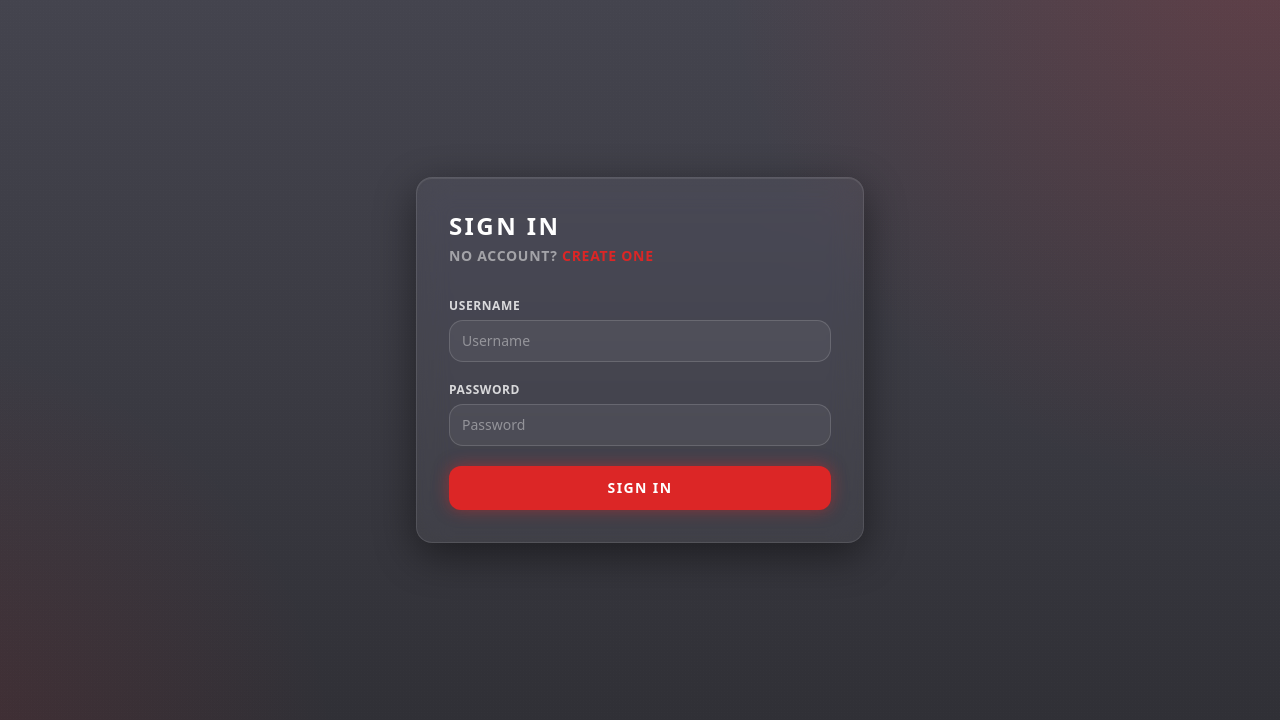
Test: Login page › successful login › shows "Signing in..." text while the request is pending
Type "ash" into the field labelled "Username".
click(640, 341); type("ash")  # box left=449, top=320, right=831, bottom=362
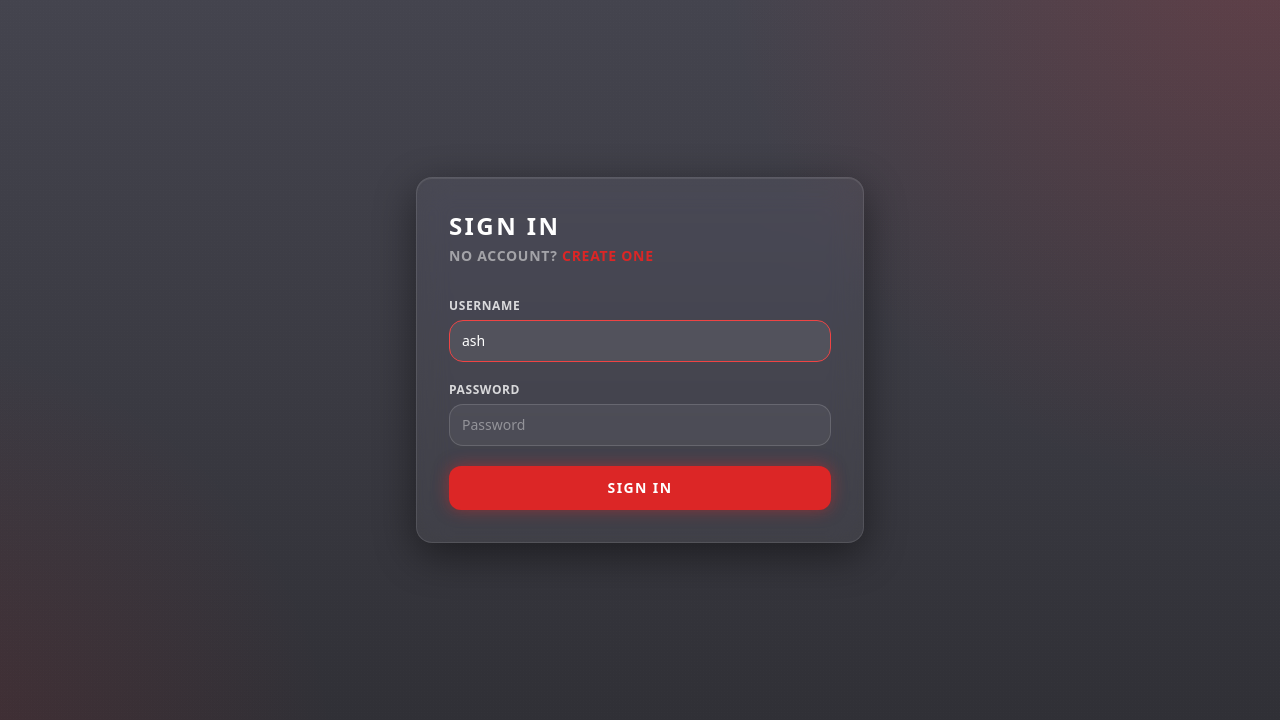
Type "pikachu" into the password field labelled "Password".
click(640, 425); type("pikachu")  # box left=449, top=404, right=831, bottom=446
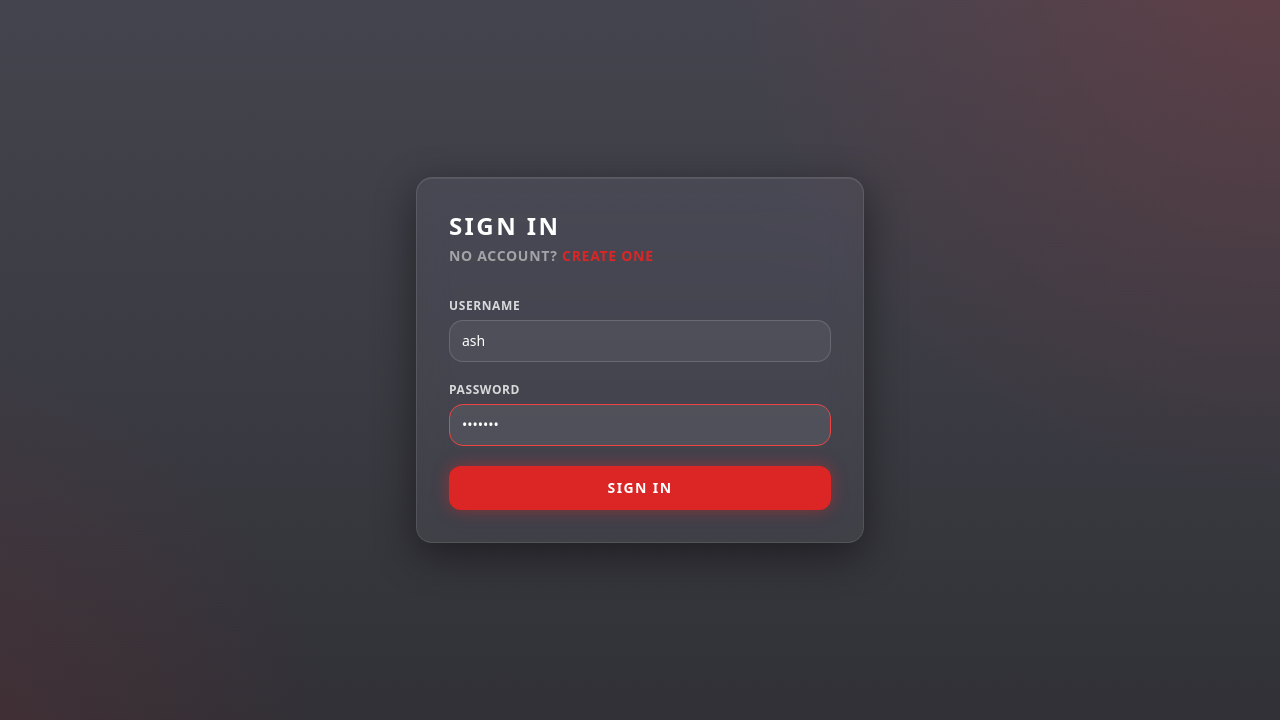
Click the button "Sign In".
click(640, 488)  # box left=449, top=466, right=831, bottom=510
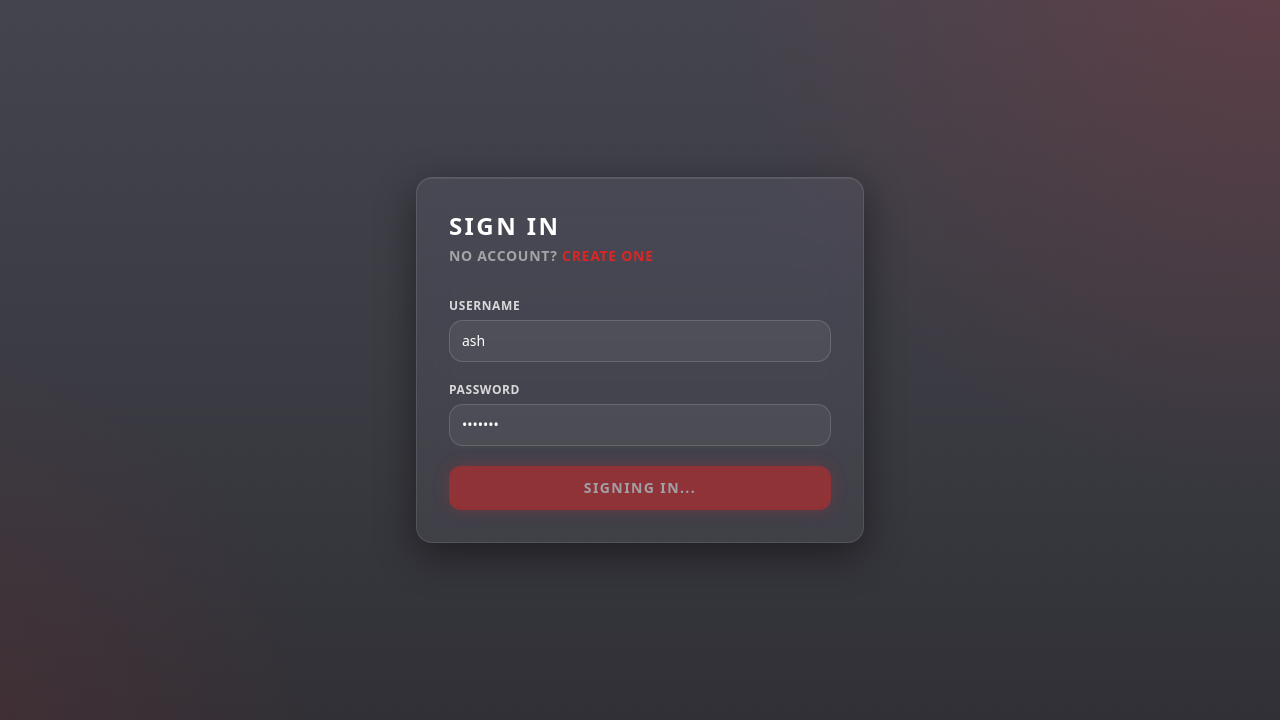
Expected: the button reads "Signing in...", left=449, top=466, right=831, bottom=510
